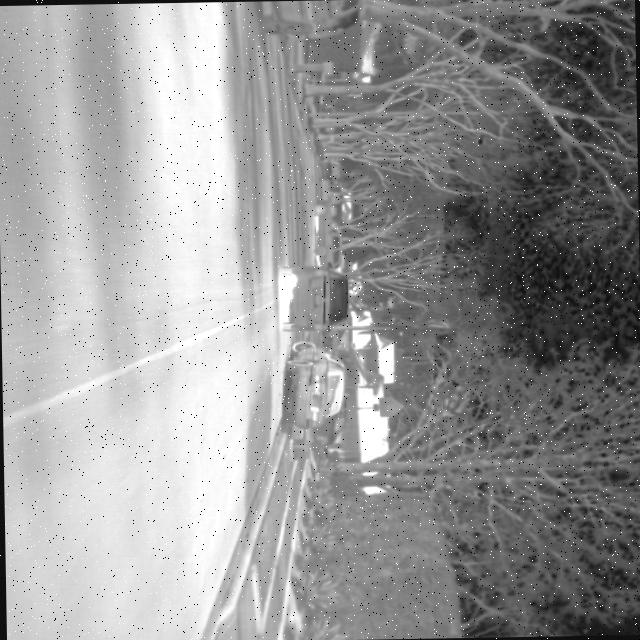Vehicle: (280, 338, 349, 430), (278, 263, 352, 333), (256, 0, 372, 41), (310, 200, 345, 271)
